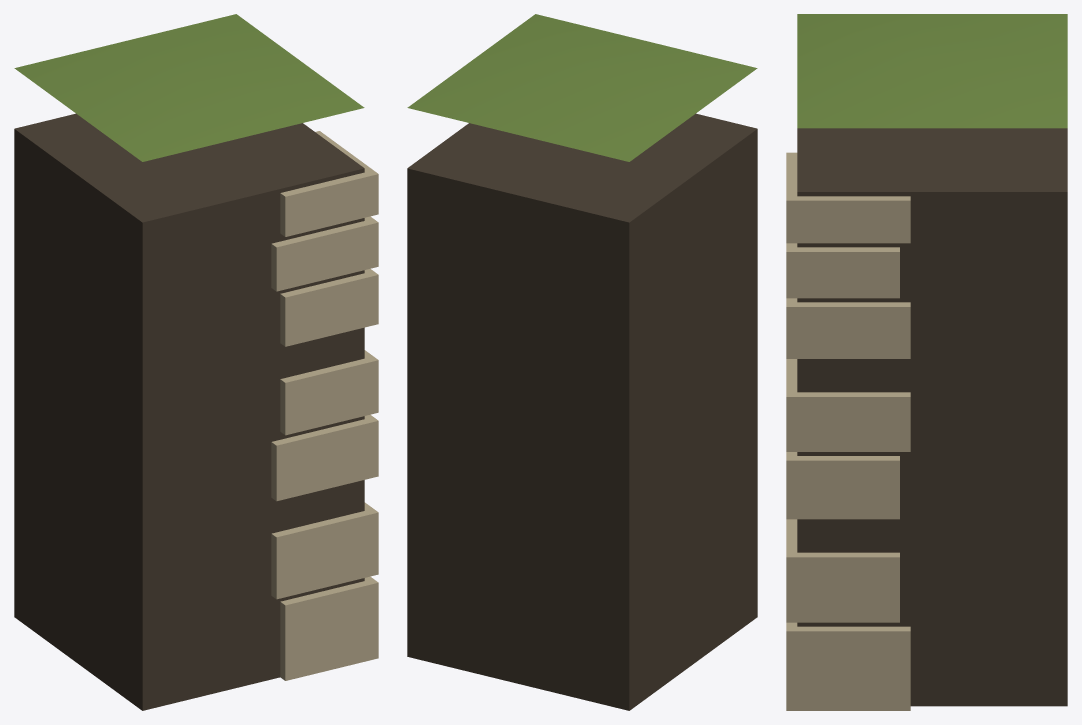
File: grove-inner.glb
3 renders of one model, left to right at view 1: azimuth 30°, elevation 25°; view 2: azimuth 150°, elevation 25°; view 3: azimuth 270°, elevation 25°, orthographic. The views are drawn at different scales.
Visible parts, largest first — view 1: grove-inner; view 2: grove-inner; view 3: grove-inner.
Boxes of the visible parts, box(x1,y1,x2,y2) form: grove-inner: box(14, 14, 378, 710); grove-inner: box(407, 14, 757, 710); grove-inner: box(786, 14, 1067, 710).
Bounding box in the file's own units: 1.04 × 2.41 × 1.04.
